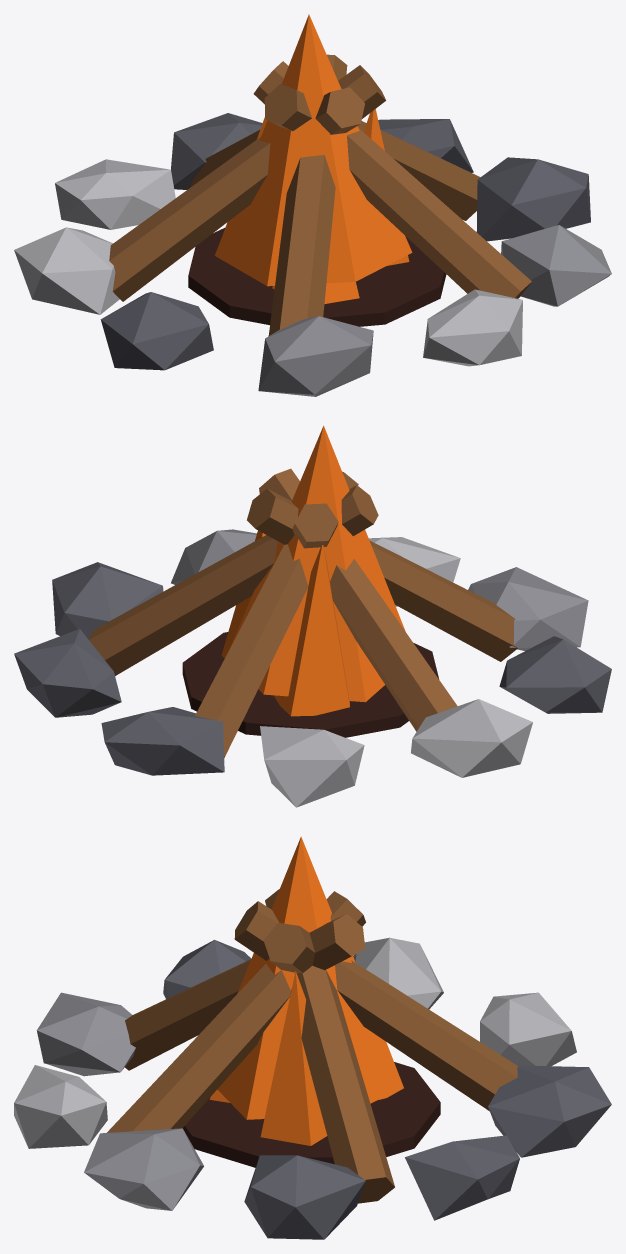
The model's file is Campfire.glb.
3 views of the same model, one above another, from view 1: azimuth 30°, elevation 25°; view 2: azimuth 150°, elevation 25°; view 3: azimuth 270°, elevation 25° (orthographic). The views are drawn at different scales.
Visible parts, largest first — view 1: Campfire; view 2: Campfire; view 3: Campfire.
Part boxes in pixels (x1,y1,x2,y2): Campfire: (14, 14, 611, 396); Campfire: (14, 425, 611, 807); Campfire: (14, 836, 611, 1239).
Size of the model in its own units: 1.34 by 0.6994 by 1.31.
Materials: 1 (1 with a texture image).
